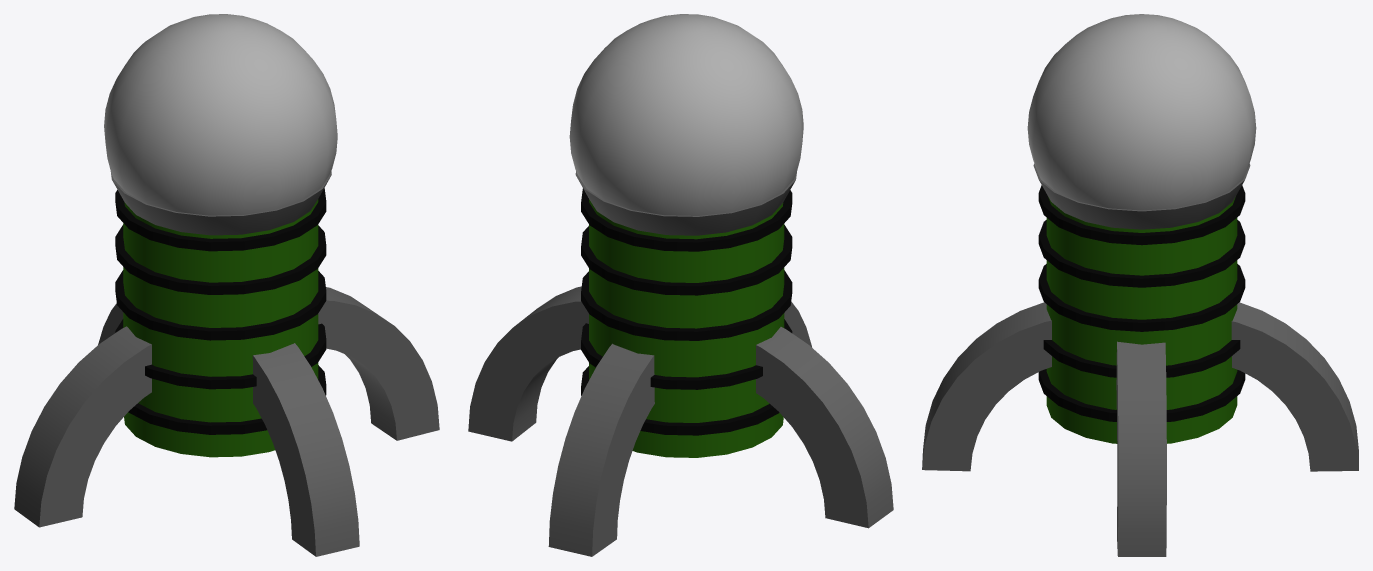
File: BulbBuilding.fbx
3 views of the same model, side by side, from view 1: azimuth 30°, elevation 25°; view 2: azimuth 150°, elevation 25°; view 3: azimuth 270°, elevation 25° (orthographic). The views are drawn at different scales.
Visible parts, largest first — view 1: pCube6; view 2: pCube6; view 3: pCube6.
Part boxes in pixels (left/top/right/bottom): pCube6: left=14, top=14, right=439, bottom=556; pCube6: left=468, top=14, right=893, bottom=556; pCube6: left=922, top=14, right=1358, bottom=556.
Size of the model in its own units: 119 by 127 by 116.
